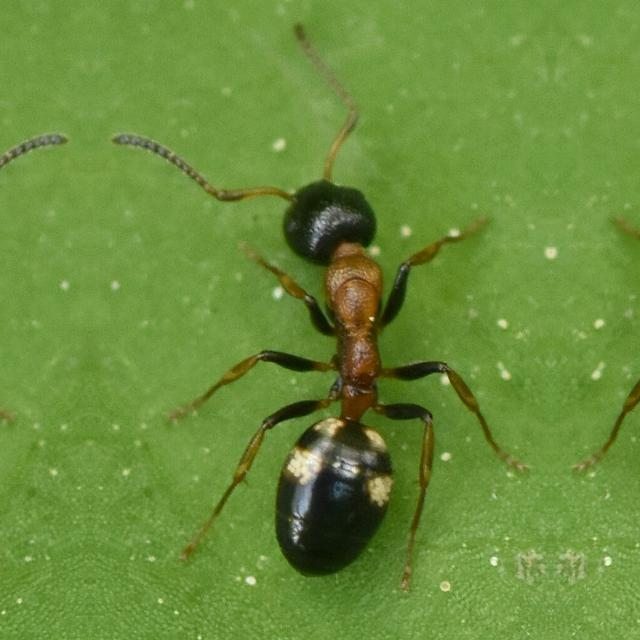Dolichoderus: (203, 115, 494, 613)
